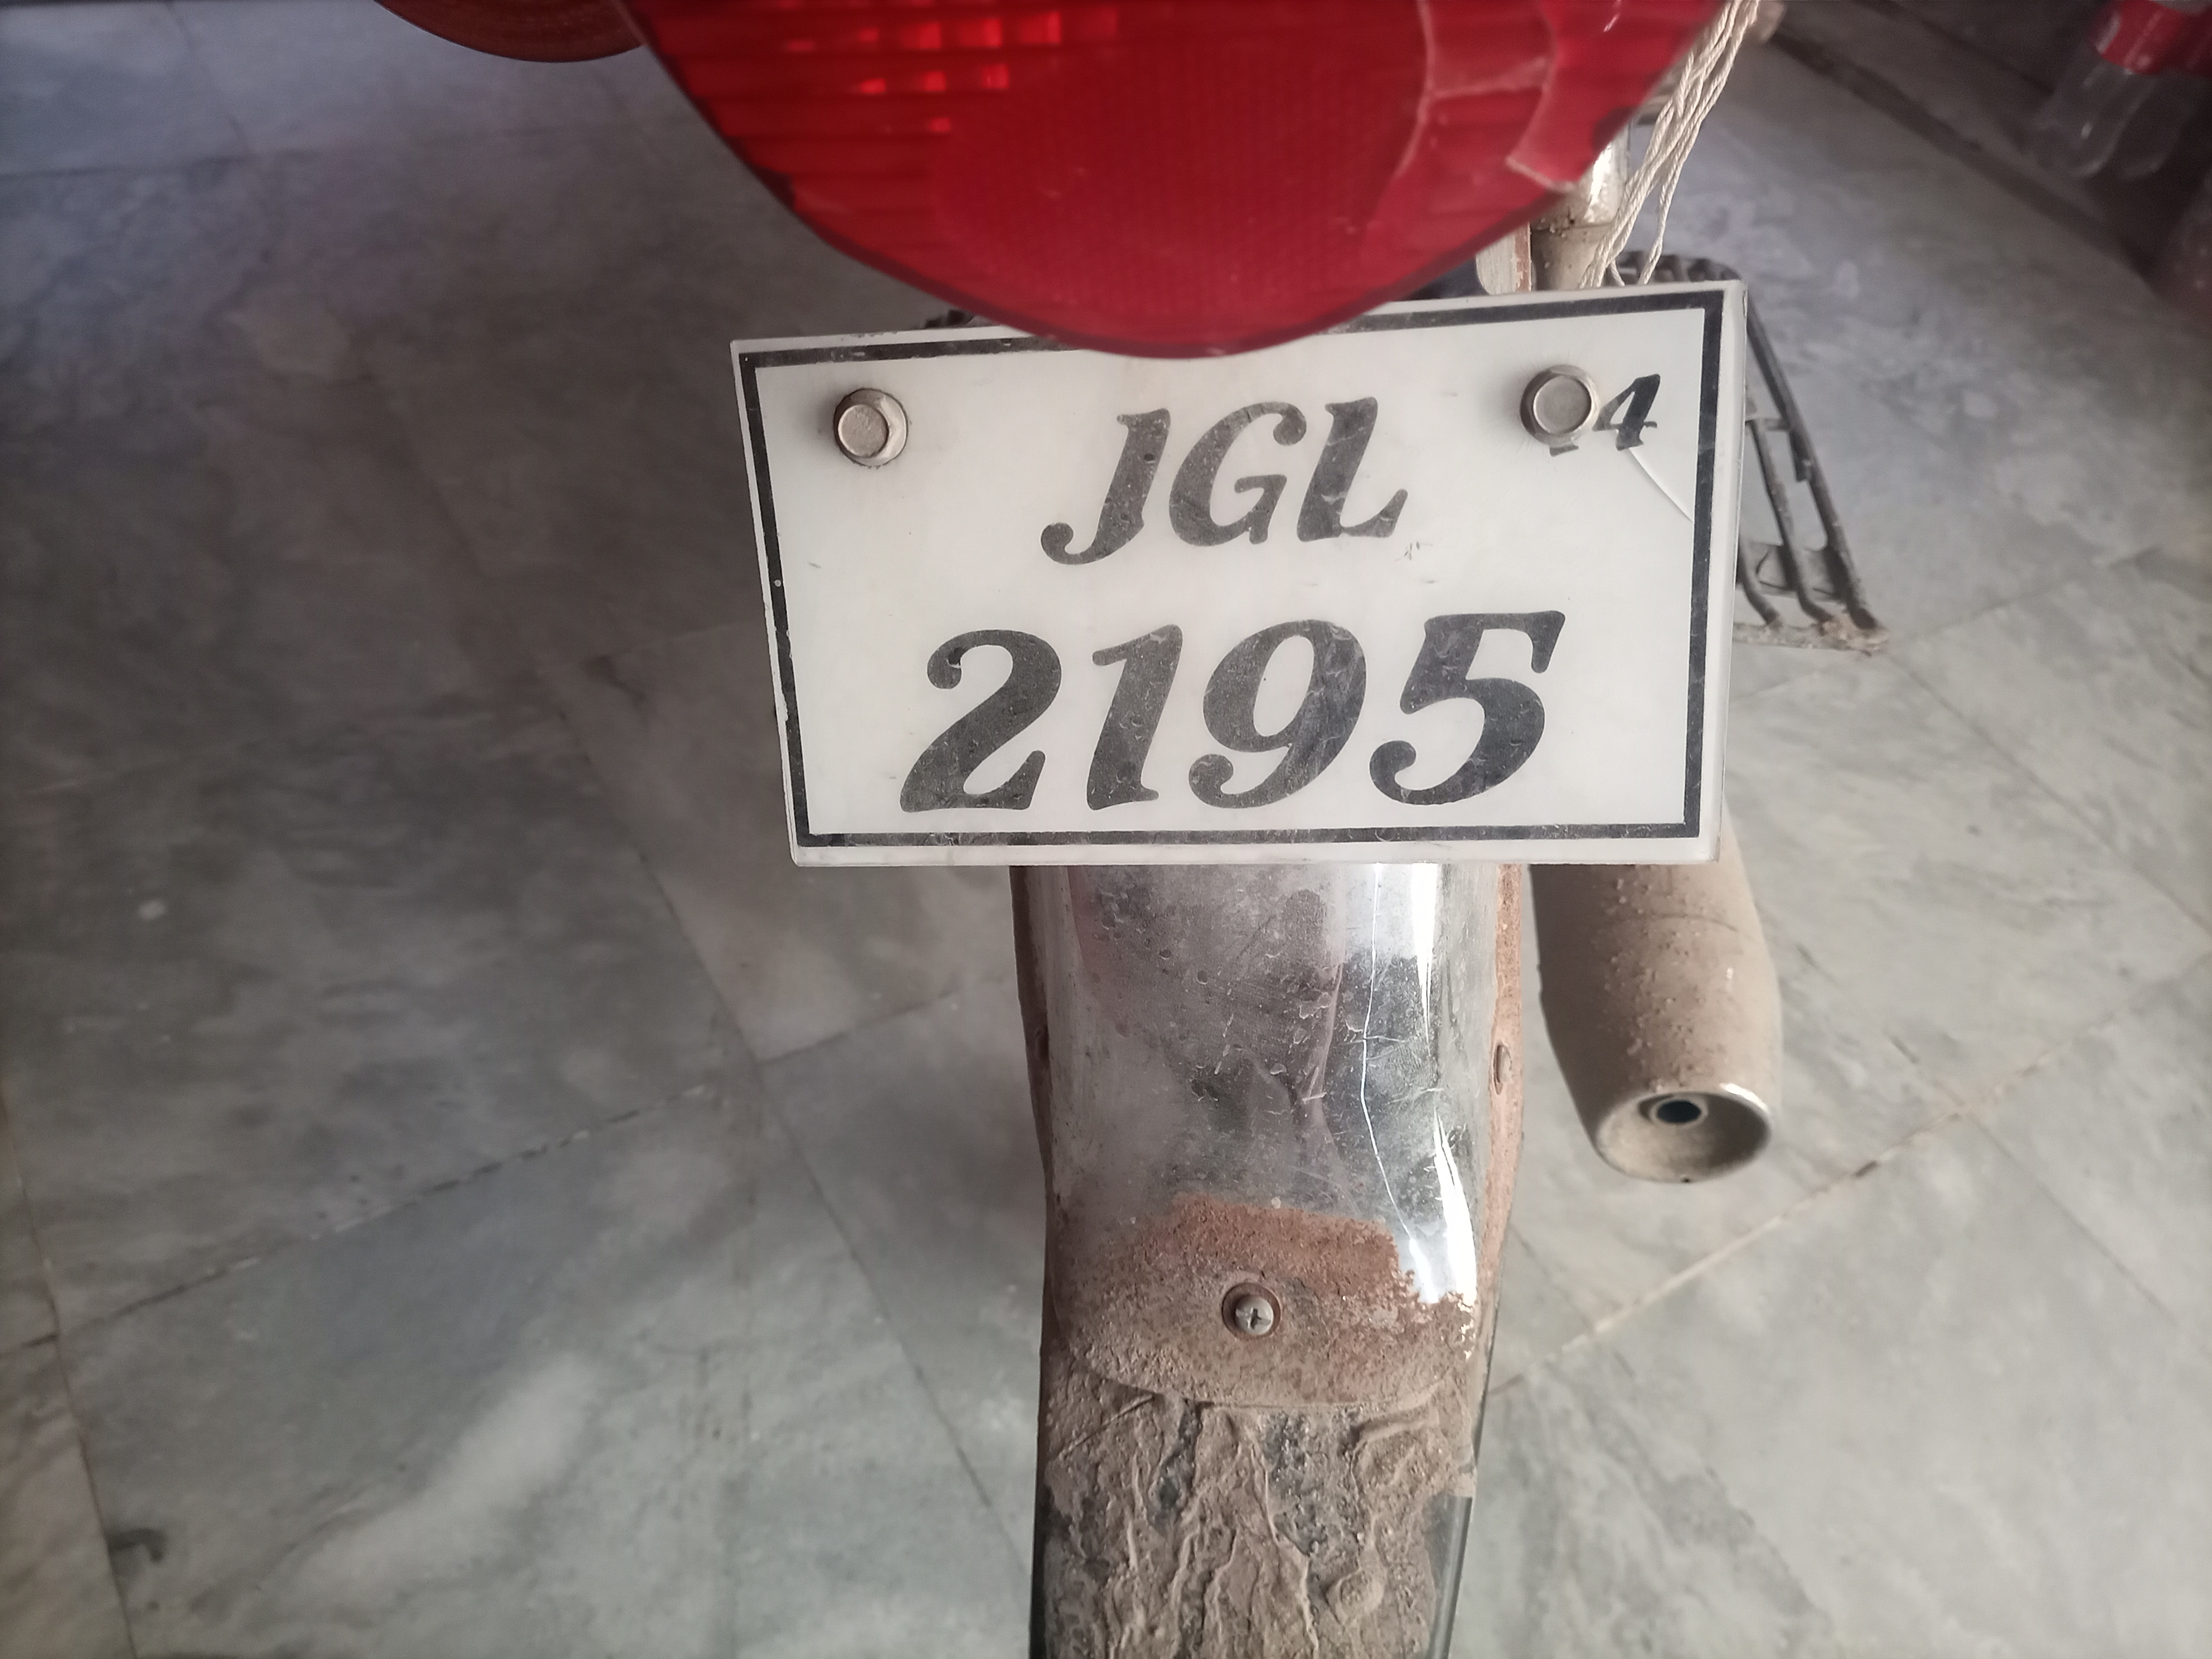number_plate: (757, 322, 1758, 841)
